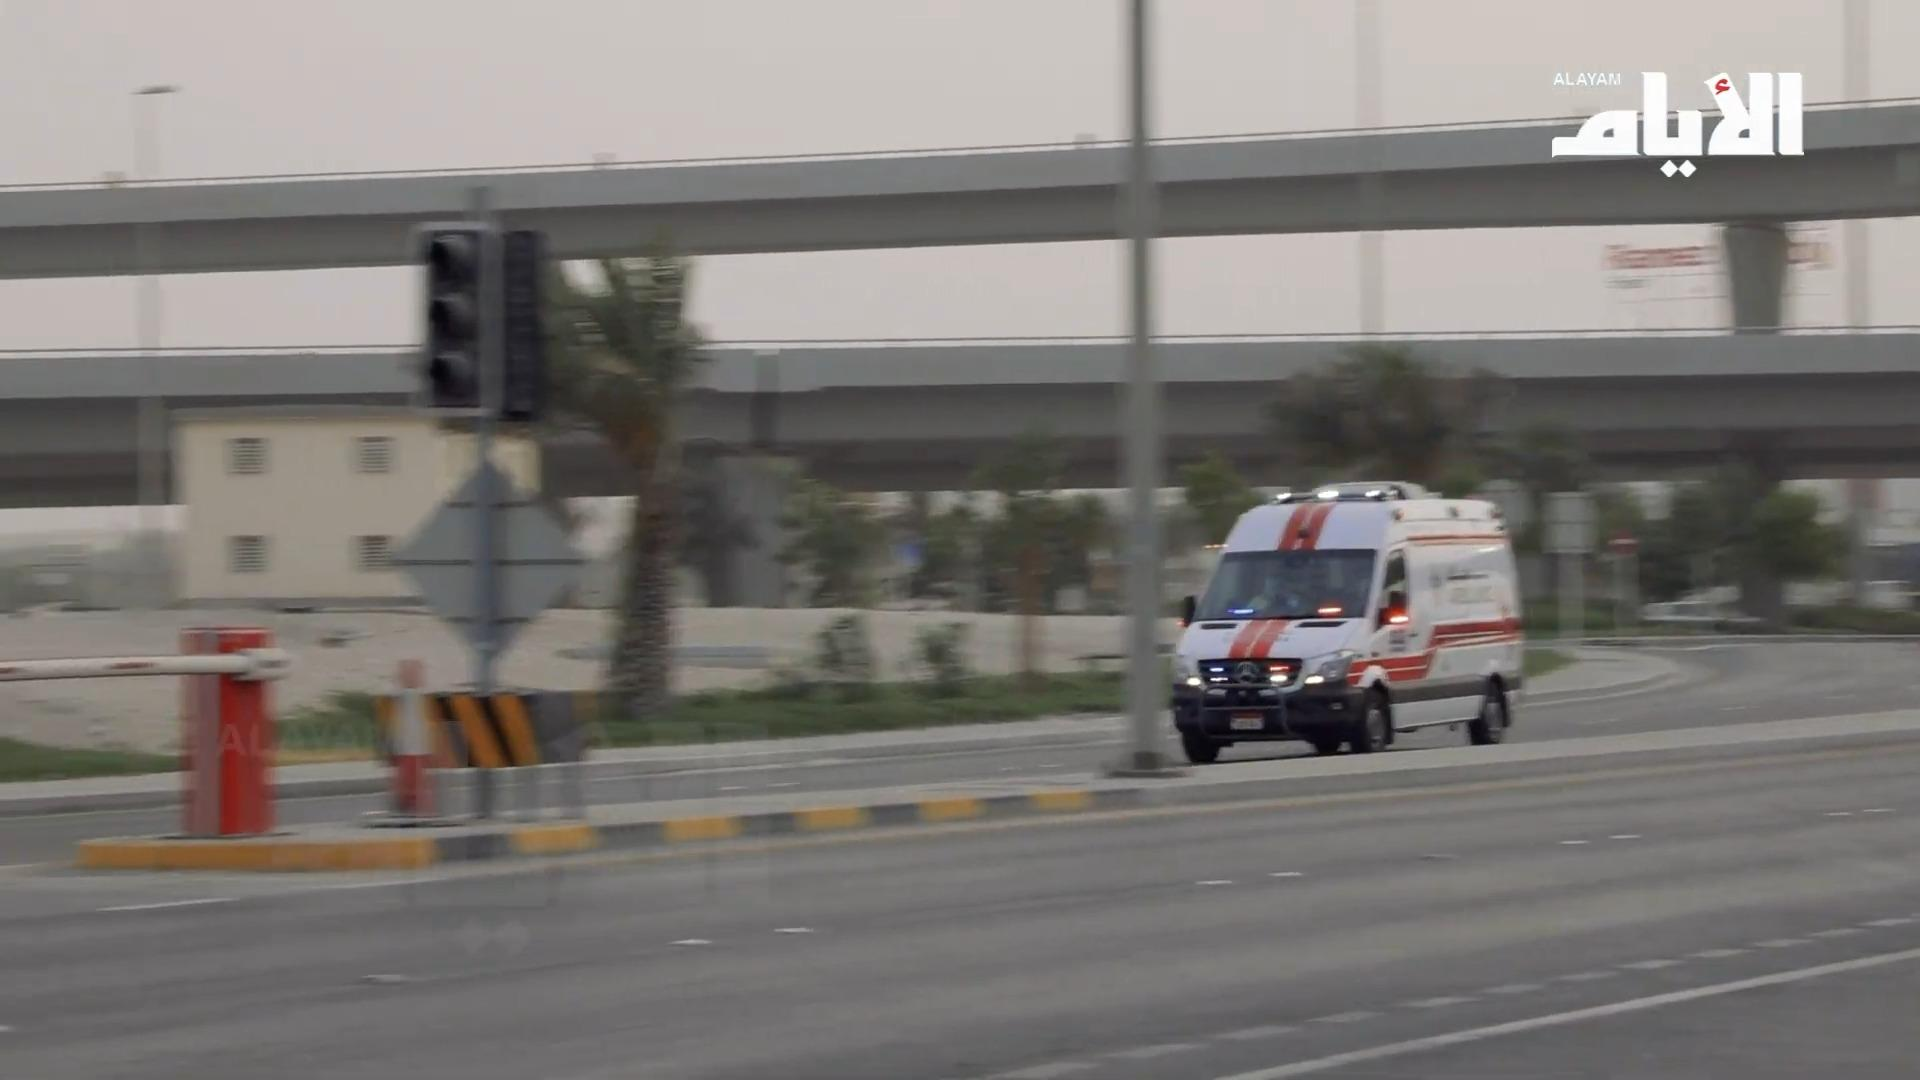ambulance_on: (1168, 481, 1524, 762)
